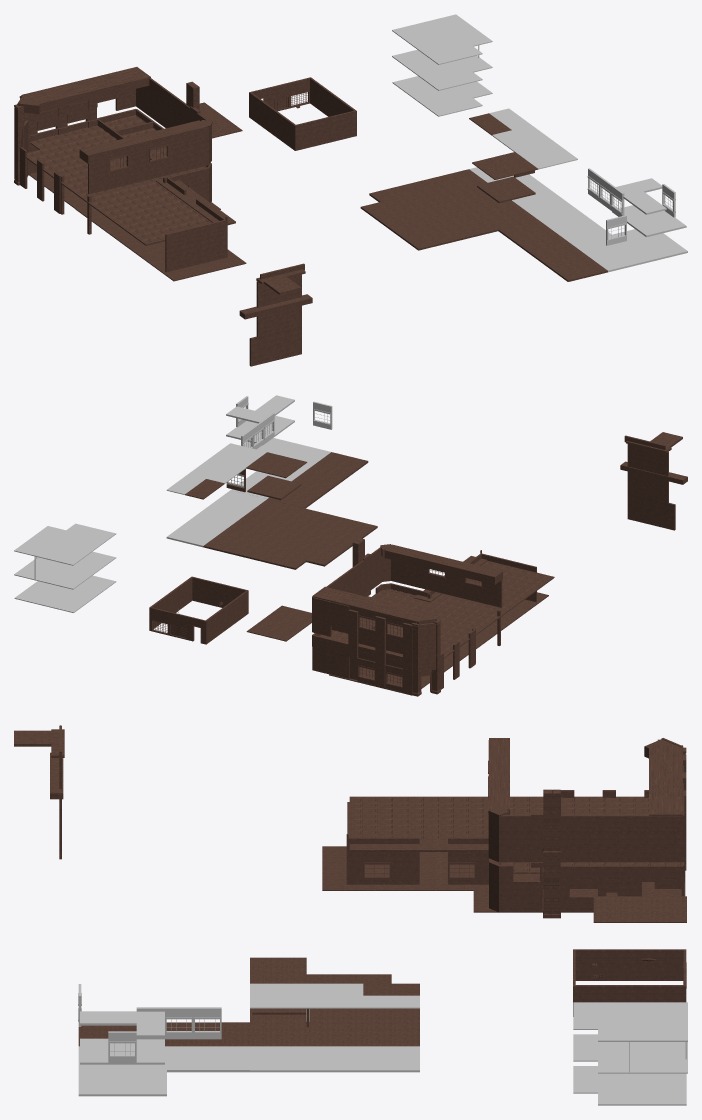
The model's file is Combined Mesh (root_ scene).obj.
The picture shows the model from 3 angles, top to bottom: view 1: azimuth 30°, elevation 25°; view 2: azimuth 150°, elevation 25°; view 3: azimuth 270°, elevation 25°; orthographic projection. The views are drawn at different scales.
Visible parts, largest first — view 1: Combined Mesh (root: scene)_813, Combined Mesh (root: scene)_823, Combined Mesh (root: scene)_1046, Combined Mesh (root: scene)_922, Combined Mesh (root: scene)_987, Combined Mesh (root: scene)_982, Combined Mesh (root: scene)_820, Combined Mesh (root: scene)_913; view 2: Combined Mesh (root: scene)_823, Combined Mesh (root: scene)_813, Combined Mesh (root: scene)_1047, Combined Mesh (root: scene)_923, Combined Mesh (root: scene)_1041, Combined Mesh (root: scene)_581, Combined Mesh (root: scene)_585; view 3: Combined Mesh (root: scene)_813, Combined Mesh (root: scene)_823, Combined Mesh (root: scene)_453, Combined Mesh (root: scene)_492, Combined Mesh (root: scene)_403, Combined Mesh (root: scene)_469, Combined Mesh (root: scene)_496, Combined Mesh (root: scene)_500, Combined Mesh (root: scene)_401, Combined Mesh (root: scene)_405, Combined Mesh (root: scene)_399, Combined Mesh (root: scene)_990 (+4 smaller).
Boxes of the visible parts, x1=… form: Combined Mesh (root: scene)_813: x1=21, y1=67, x2=150, y2=111; Combined Mesh (root: scene)_823: x1=79, y1=120, x2=207, y2=163; Combined Mesh (root: scene)_1046: x1=250, y1=332, x2=279, y2=366; Combined Mesh (root: scene)_922: x1=280, y1=326, x2=301, y2=359; Combined Mesh (root: scene)_987: x1=165, y1=243, x2=186, y2=272; Combined Mesh (root: scene)_982: x1=88, y1=164, x2=108, y2=194; Combined Mesh (root: scene)_820: x1=206, y1=233, x2=226, y2=262; Combined Mesh (root: scene)_913: x1=186, y1=238, x2=206, y2=267; Combined Mesh (root: scene)_823: x1=384, y1=544, x2=502, y2=584; Combined Mesh (root: scene)_813: x1=312, y1=586, x2=431, y2=624; Combined Mesh (root: scene)_1047: x1=647, y1=498, x2=674, y2=530; Combined Mesh (root: scene)_923: x1=627, y1=494, x2=647, y2=523; Combined Mesh (root: scene)_1041: x1=647, y1=460, x2=668, y2=490; Combined Mesh (root: scene)_581: x1=330, y1=651, x2=349, y2=678; Combined Mesh (root: scene)_585: x1=330, y1=602, x2=349, y2=629; Combined Mesh (root: scene)_813: x1=649, y1=745, x2=682, y2=815; Combined Mesh (root: scene)_823: x1=489, y1=738, x2=509, y2=814; Combined Mesh (root: scene)_453: x1=513, y1=881, x2=541, y2=912; Combined Mesh (root: scene)_492: x1=626, y1=831, x2=654, y2=862; Combined Mesh (root: scene)_403: x1=601, y1=949, x2=629, y2=980; Combined Mesh (root: scene)_469: x1=654, y1=831, x2=682, y2=862; Combined Mesh (root: scene)_496: x1=598, y1=831, x2=626, y2=862; Combined Mesh (root: scene)_500: x1=569, y1=831, x2=597, y2=862; Combined Mesh (root: scene)_401: x1=629, y1=949, x2=657, y2=980; Combined Mesh (root: scene)_405: x1=573, y1=949, x2=601, y2=980; Combined Mesh (root: scene)_399: x1=658, y1=949, x2=685, y2=980; Combined Mesh (root: scene)_990: x1=14, y1=730, x2=51, y2=745.
Bounding box in the file's own units: 58.95 × 12.17 × 59.5.
Materials: 5 (5 with a texture image).
